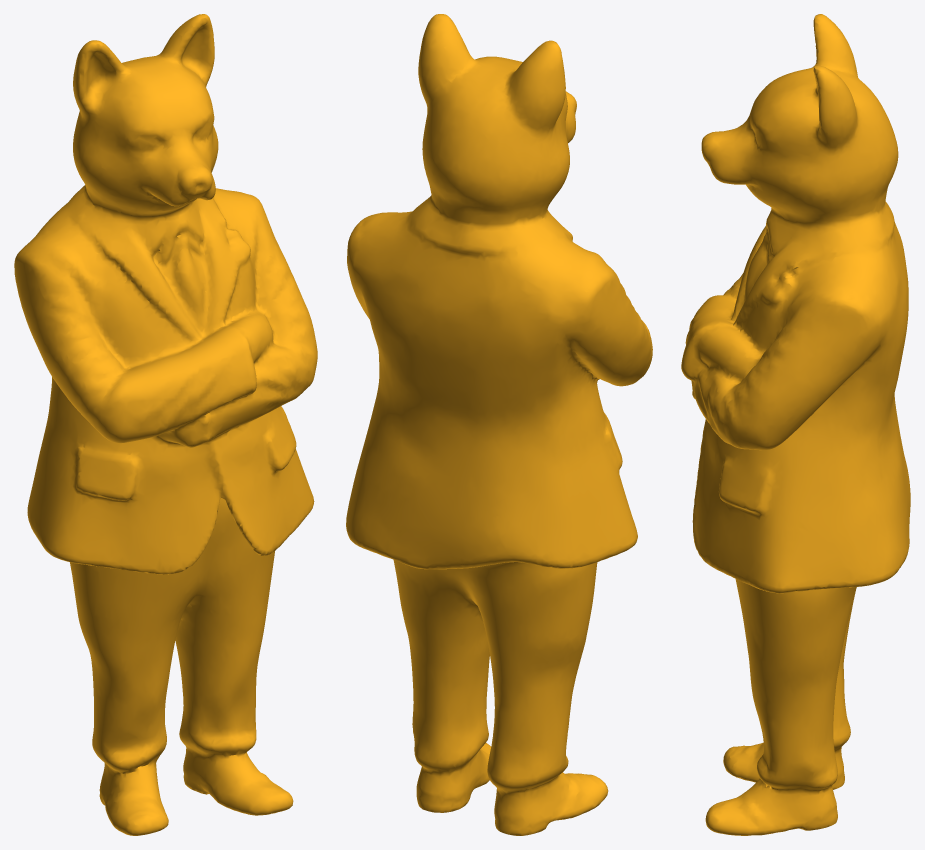
The model's file is doge.glb.
The picture shows the model from 3 angles, left to right: view 1: azimuth 30°, elevation 25°; view 2: azimuth 150°, elevation 25°; view 3: azimuth 270°, elevation 25°; orthographic projection. The views are drawn at different scales.
Visible parts, largest first — view 1: temp_mesh.ply_1; view 2: temp_mesh.ply_1; view 3: temp_mesh.ply_1.
Boxes of the visible parts, x1,y1,x2,y2 form: temp_mesh.ply_1: (14, 14, 317, 835); temp_mesh.ply_1: (346, 14, 652, 835); temp_mesh.ply_1: (681, 14, 910, 835).
Bounding box in the file's own units: 0.7121 × 1.99 × 0.5489.
